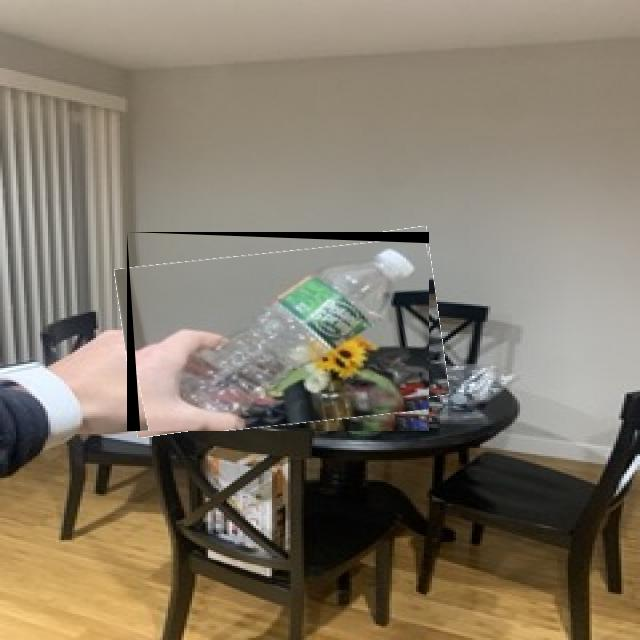water_bottle: (135, 240, 429, 431)
